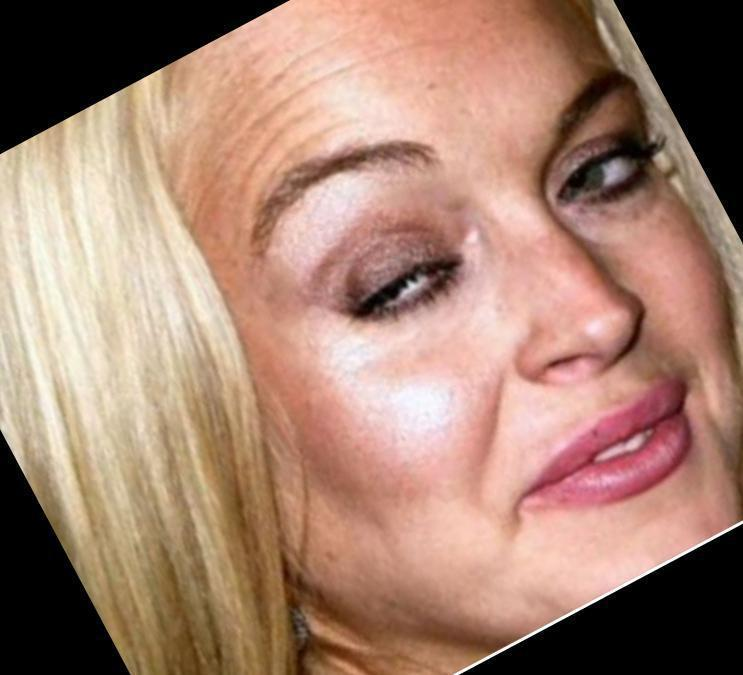Drunk: (216, 33, 735, 537)
